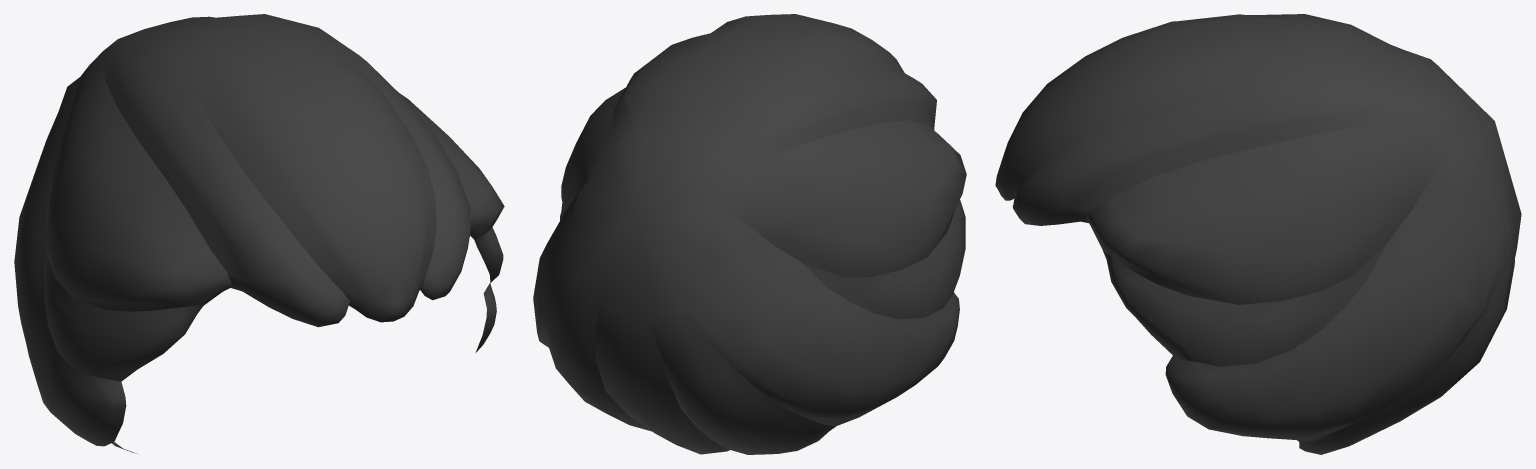
Rendered from BabkaHairs.glb.
3 views of the same model, side by side, from view 1: azimuth 30°, elevation 25°; view 2: azimuth 150°, elevation 25°; view 3: azimuth 270°, elevation 25° (orthographic). The views are drawn at different scales.
Parts seen in each view (by area): view 1: geometry_0; view 2: geometry_0; view 3: geometry_0.
Part boxes in pixels (left/top/right/bottom): geometry_0: left=14, top=14, right=504, bottom=453; geometry_0: left=533, top=14, right=966, bottom=454; geometry_0: left=995, top=14, right=1521, bottom=454.
Size of the model in its own units: 0.281 by 0.2746 by 0.3313.
Materials: 1 (1 with a texture image).
